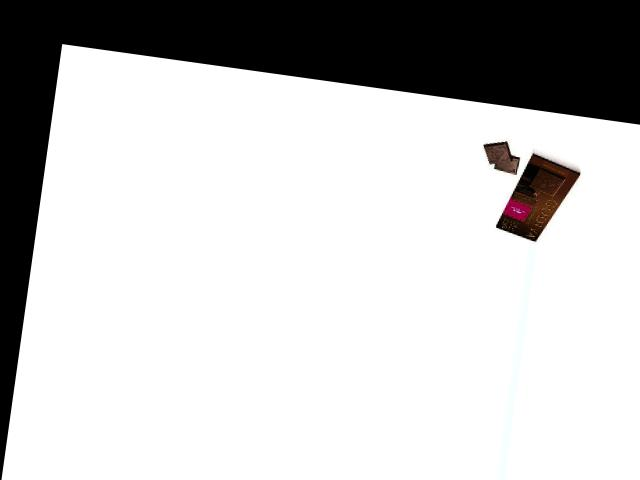chocolate: (493, 148, 582, 247)
